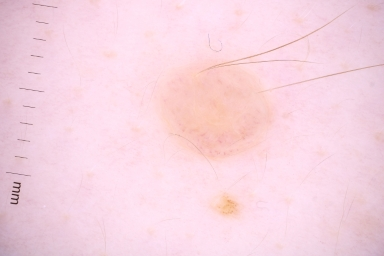nevus: (158, 63, 274, 160)
